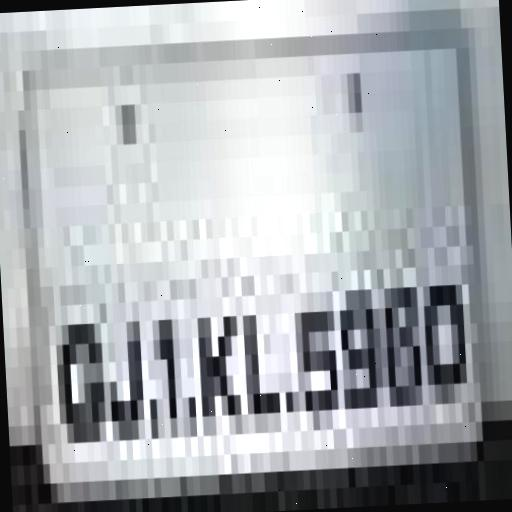number plate: (1, 8, 492, 505)
